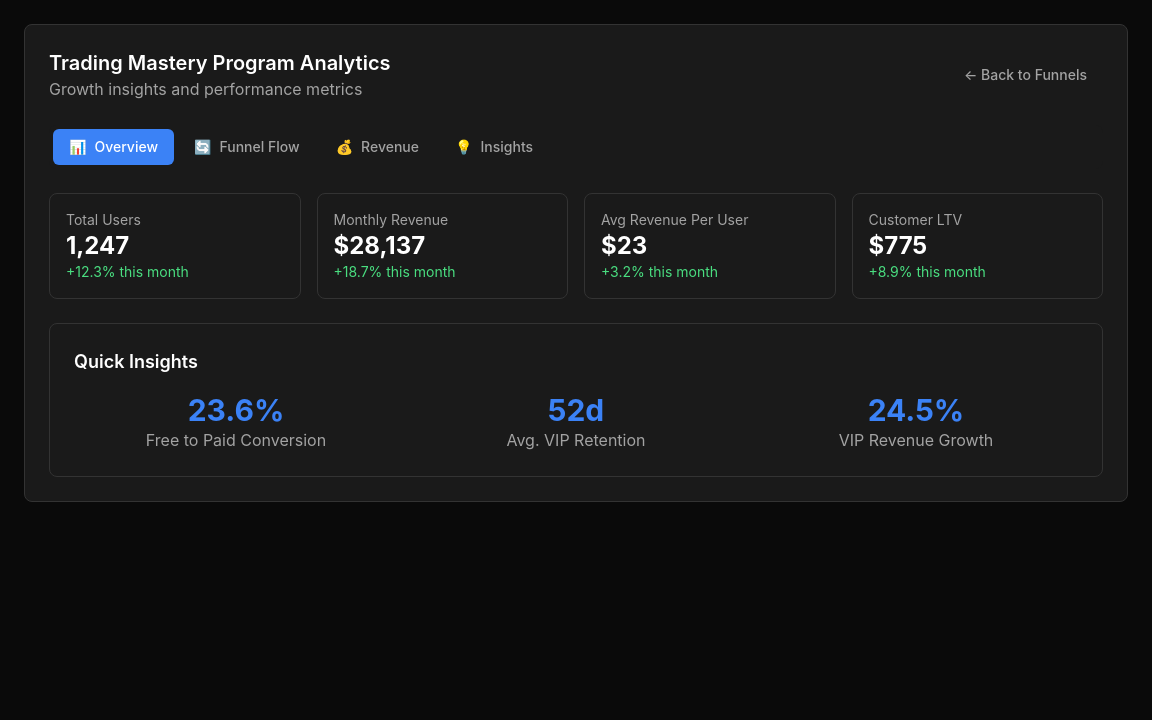
it: AnalyticsDashboard Component › switches to funnel flow tab when clicked
The width and height of the screenshot is (1152, 720).
Step 1. Click the text "Funnel Flow" → [260, 147], box [220,137,300,157]
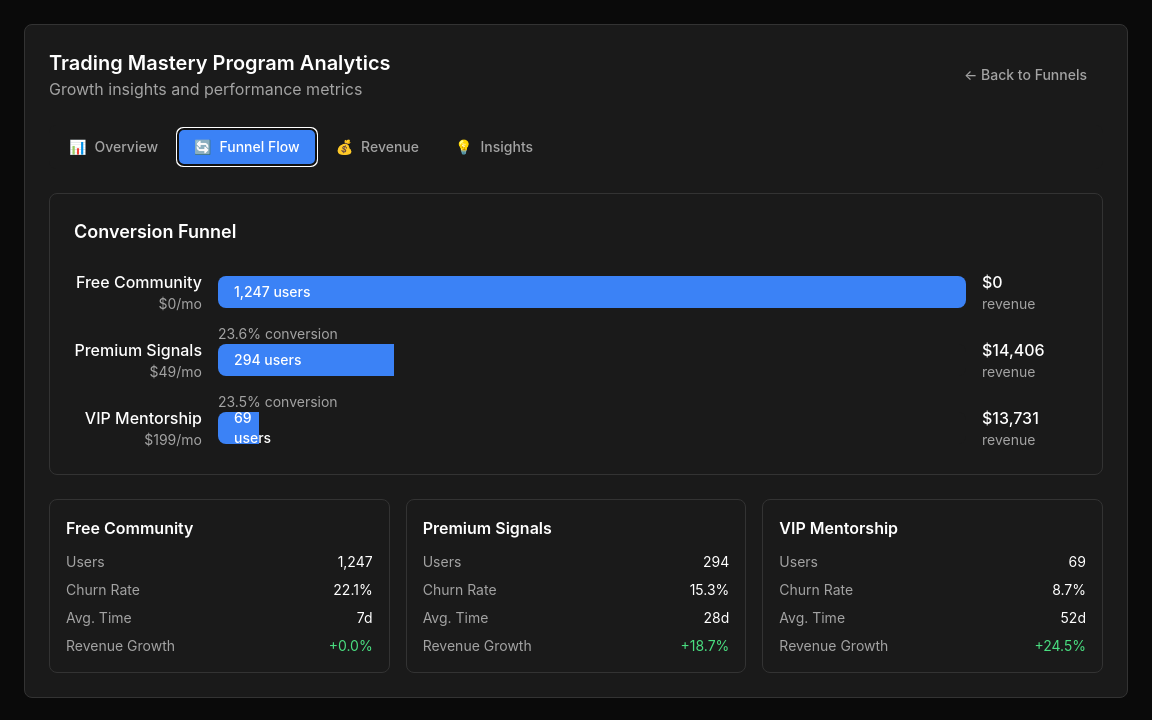
Check: the heading "Conversion Funnel" is shown, box [74,221,236,242]
Check: the heading "Free Community" is shown, box [66,518,194,538]
Check: the text "Premium Signals" is shown 2 times, box [74,338,202,362]; [423,518,552,538]
